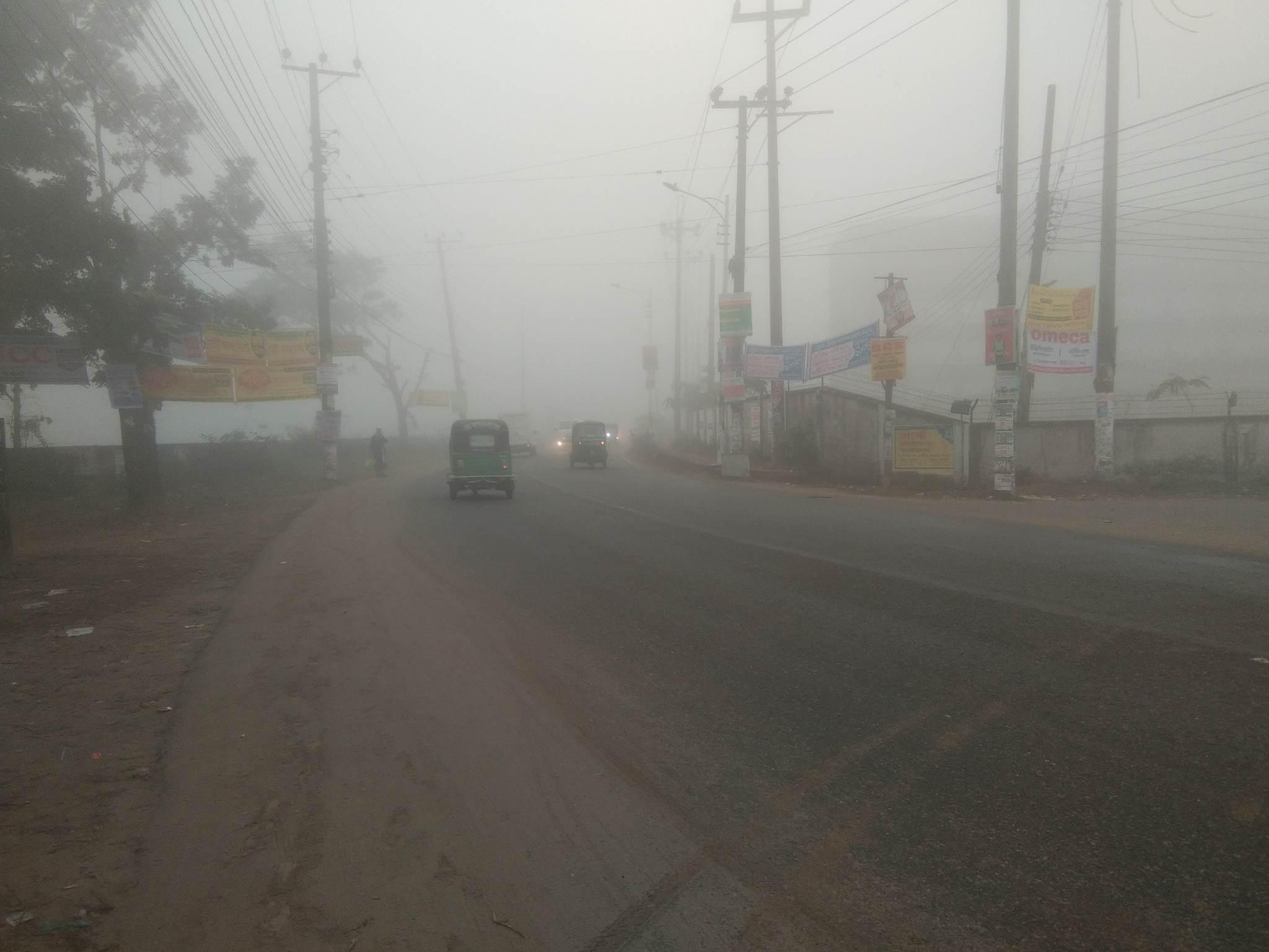Truck: (503, 410, 545, 464)
